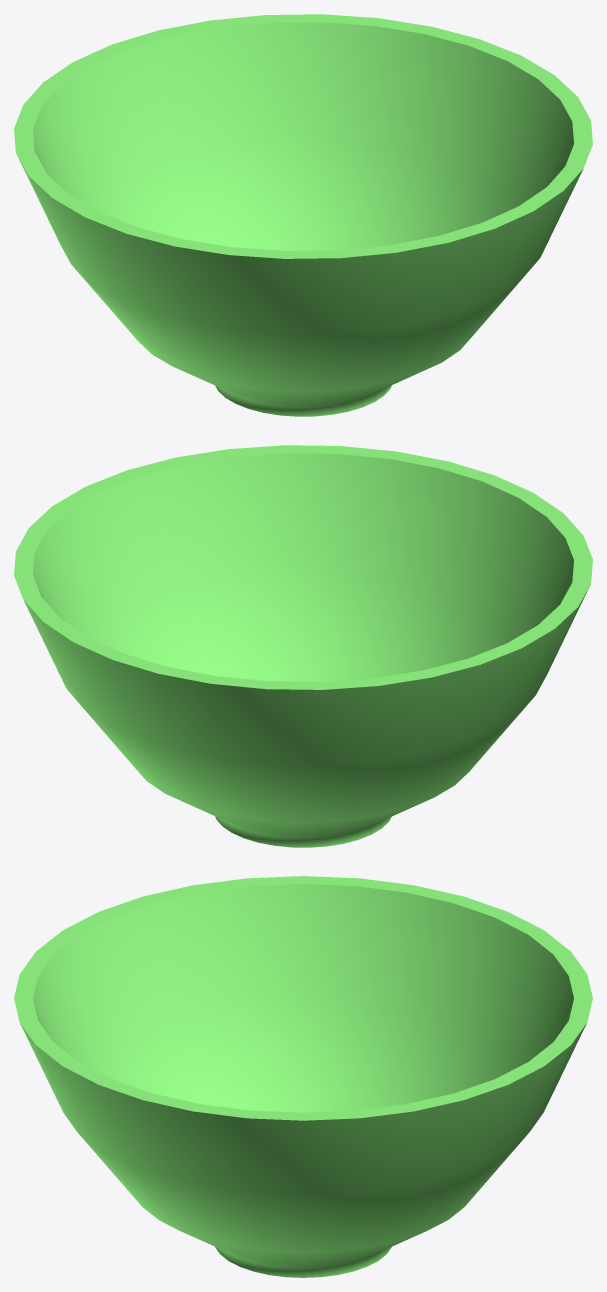
The model's file is bowl.dae.
3 renders of one model, top to bottom at view 1: azimuth 30°, elevation 25°; view 2: azimuth 150°, elevation 25°; view 3: azimuth 270°, elevation 25°, orthographic.
Visible parts, largest first — view 1: Bowl; view 2: Bowl; view 3: Bowl.
Boxes of the visible parts, x1,y1,x2,y2 form: Bowl: (14,14,592,416); Bowl: (14,445,592,847); Bowl: (14,876,592,1277).
Bounding box in the file's own units: 6.43 × 6.43 × 2.96.
